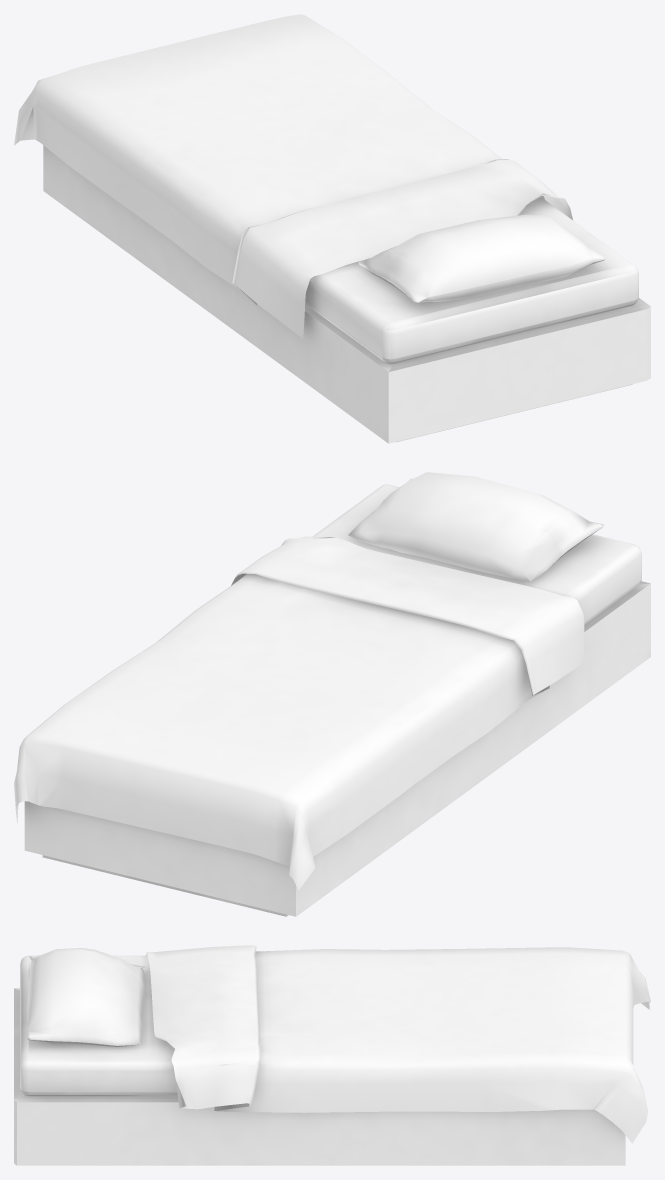
File: Bed.glb
3 renders of one model, top to bottom at view 1: azimuth 30°, elevation 25°; view 2: azimuth 150°, elevation 25°; view 3: azimuth 270°, elevation 25°, orthographic. The views are drawn at different scales.
Visible parts, largest first — view 1: Bed.001, Bed, Bed.003, Bed.002; view 2: Bed.001, Bed, Bed.002, Bed.003; view 3: Bed.001, Bed, Bed.002, Bed.003.
Part boxes in pixels (bbox=[...]): Bed.001: bbox=[14, 14, 572, 338]; Bed: bbox=[43, 145, 650, 443]; Bed.003: bbox=[305, 196, 638, 364]; Bed.002: bbox=[358, 214, 605, 302]; Bed.001: bbox=[14, 536, 584, 890]; Bed: bbox=[24, 581, 650, 916]; Bed.002: bbox=[348, 472, 603, 582]; Bed.003: bbox=[313, 484, 641, 624]; Bed.001: bbox=[146, 945, 650, 1143]; Bed: bbox=[14, 988, 625, 1165]; Bed.002: bbox=[27, 948, 145, 1046]; Bed.003: bbox=[20, 955, 177, 1096].
Size of the model in its own units: 0.9792 by 0.505 by 2.
Materials: 1 (1 with a texture image).
